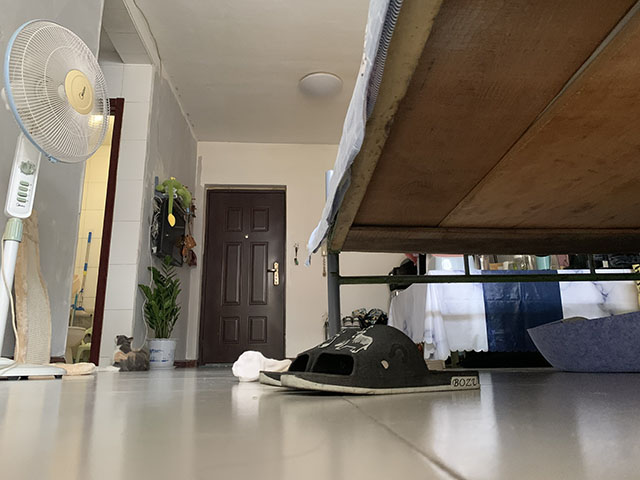bed: (303, 1, 640, 341)
slippers: (258, 323, 483, 395)
socks: (231, 349, 292, 382)
table: (386, 268, 639, 372)
wire: (1, 234, 22, 372)
